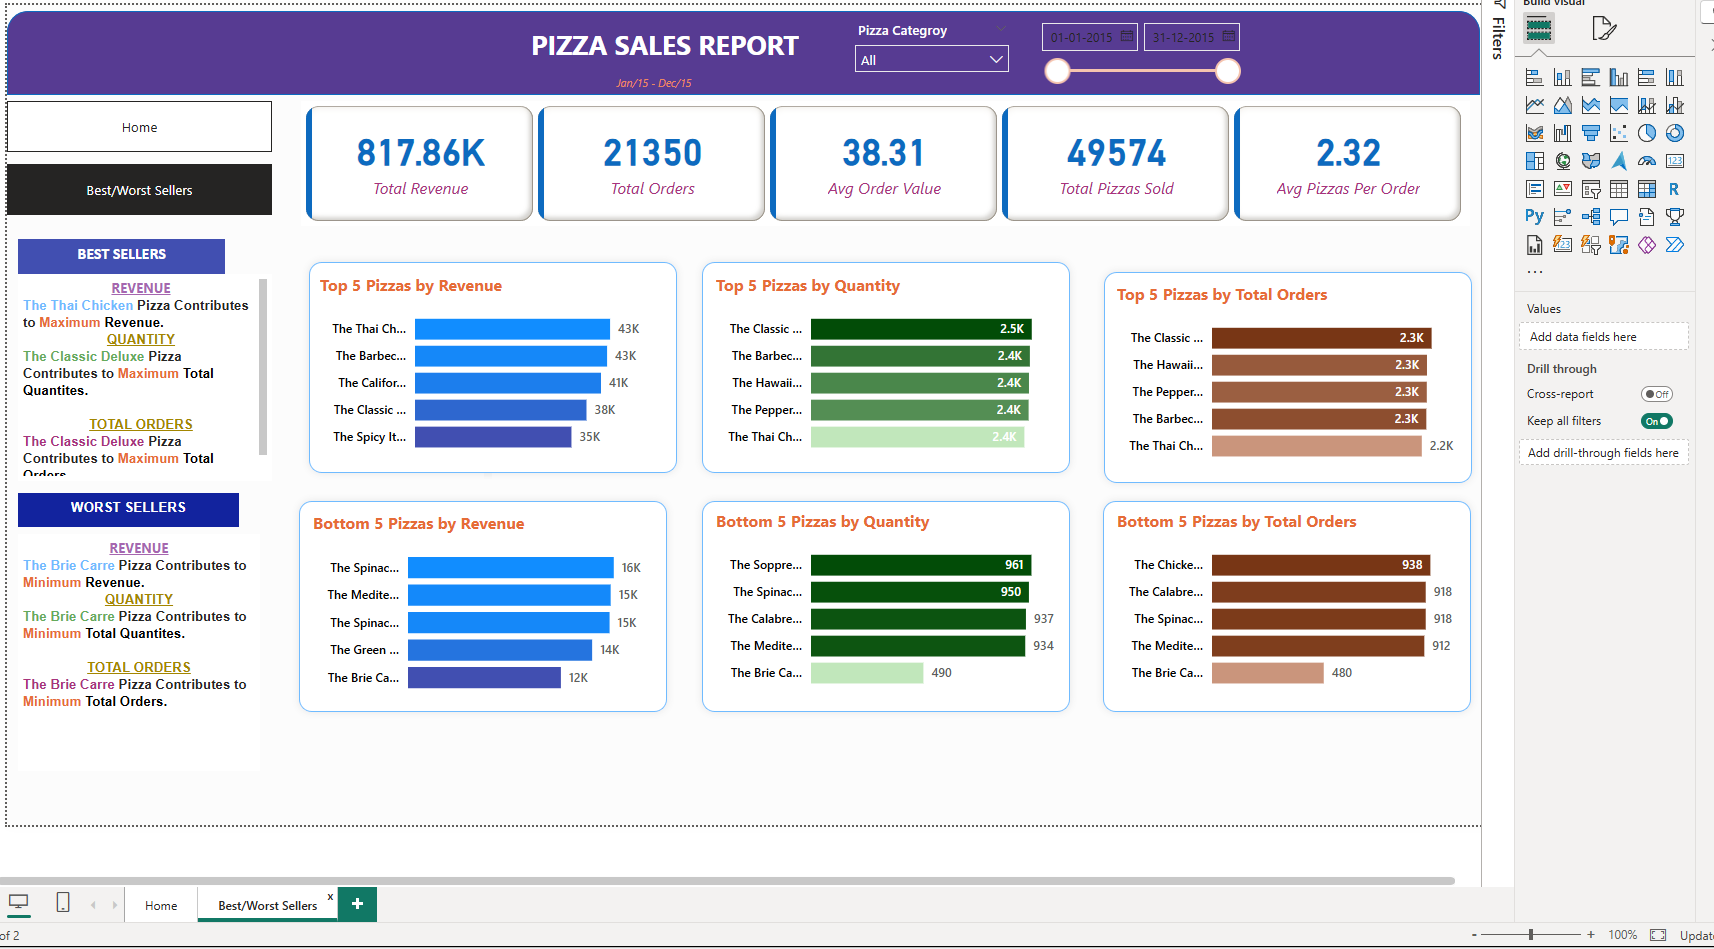

The dashboard page shown, as its layout file describes it:
{"tool":"powerbi","page":{"name":"Best/Worst Sellers","canvas":[1500,820],"ordinal":1},"visuals":[{"type":"cardVisual","fields":{"Data":["pizza_sales.Total Revenue","pizza_sales.Total Orders","pizza_sales.Avg Order Value","pizza_sales.Total Pizzas Sold","pizza_sales.Avg Pizzas Per Order"]},"box":[294,96,1169,125],"z":0},{"type":"shape","box":[0,6,1473,84],"z":1000},{"type":"textbox","box":[497,16,322,49],"z":2000},{"type":"textbox","box":[576,63,142,27],"z":3000},{"type":"shape","box":[294,249,384,227],"z":4000},{"type":"textbox","box":[11,234,207,35],"z":5000},{"type":"textbox","box":[11,269,254,207],"z":6000},{"type":"textbox","box":[11,488,221,34],"z":7000},{"type":"textbox","box":[11,529,242,237],"z":8000},{"type":"slicer","fields":{"Values":["pizza_sales.pizza_category"]},"box":[838,11,174,66],"z":9000},{"type":"slicer","fields":{"Values":["pizza_sales.order_date"]},"box":[1022,8,220,82],"z":10000},{"type":"shape","box":[284,488,384,227],"z":11000},{"type":"shape","box":[687,488,384,227],"z":12000},{"type":"shape","box":[1088,488,384,227],"z":13000},{"type":"shape","box":[687,249,384,227],"z":14000},{"type":"shape","box":[1089,259,384,227],"z":15000},{"type":"barChart","title":"Top 5 Pizzas by Revenue ","fields":{"Category":["pizza_sales.pizza_name"],"Y":["pizza_sales.Total Revenue"]},"box":[308,269,350,190],"z":16000},{"type":"barChart","title":"Bottom 5 Pizzas by Revenue ","fields":{"Category":["pizza_sales.pizza_name"],"Y":["pizza_sales.Total Revenue"]},"box":[301,507,350,193],"z":17000},{"type":"barChart","title":"Top 5 Pizzas by Quantity","fields":{"Category":["pizza_sales.pizza_name"],"Y":["pizza_sales.Total Pizzas Sold"]},"box":[704,269,350,190],"z":17001},{"type":"barChart","title":"Bottom 5 Pizzas by Quantity","fields":{"Category":["pizza_sales.pizza_name"],"Y":["pizza_sales.Total Pizzas Sold"]},"box":[704,505,350,190],"z":17002},{"type":"barChart","title":"Top 5 Pizzas by Total Orders","fields":{"Category":["pizza_sales.pizza_name"],"Y":["pizza_sales.Total Orders"]},"box":[1105,278,350,190],"z":17003},{"type":"barChart","title":"Bottom 5 Pizzas by Total Orders","fields":{"Category":["pizza_sales.pizza_name"],"Y":["pizza_sales.Total Orders"]},"box":[1105,505,350,190],"z":17004},{"type":"pageNavigator","box":[0,96,265,51],"z":17005},{"type":"pageNavigator","box":[0,159,265,51],"z":17006}]}

Visuals, with their boxes on the page's 1500x820 design canvas (x1, y1, x2, y2). These are canvas units, not pixel positions in the 1714x949 screenshot, which may show the page scaled, cropped or inside an application window:
cardVisual - pizza_sales.Total Revenue x pizza_sales.Total Orders: pyautogui.locateOnScreen(294, 96, 1463, 221)
shape: pyautogui.locateOnScreen(0, 6, 1473, 90)
textbox: pyautogui.locateOnScreen(497, 16, 819, 65)
textbox: pyautogui.locateOnScreen(576, 63, 718, 90)
shape: pyautogui.locateOnScreen(294, 249, 678, 476)
textbox: pyautogui.locateOnScreen(11, 234, 218, 269)
textbox: pyautogui.locateOnScreen(11, 269, 265, 476)
textbox: pyautogui.locateOnScreen(11, 488, 232, 522)
textbox: pyautogui.locateOnScreen(11, 529, 253, 766)
slicer - pizza_sales.pizza_category: pyautogui.locateOnScreen(838, 11, 1012, 77)
slicer - pizza_sales.order_date: pyautogui.locateOnScreen(1022, 8, 1242, 90)
shape: pyautogui.locateOnScreen(284, 488, 668, 715)
shape: pyautogui.locateOnScreen(687, 488, 1071, 715)
shape: pyautogui.locateOnScreen(1088, 488, 1472, 715)
shape: pyautogui.locateOnScreen(687, 249, 1071, 476)
shape: pyautogui.locateOnScreen(1089, 259, 1473, 486)
"Top 5 Pizzas by Revenue " barChart: pyautogui.locateOnScreen(308, 269, 658, 459)
"Bottom 5 Pizzas by Revenue " barChart: pyautogui.locateOnScreen(301, 507, 651, 700)
"Top 5 Pizzas by Quantity" barChart: pyautogui.locateOnScreen(704, 269, 1054, 459)
"Bottom 5 Pizzas by Quantity" barChart: pyautogui.locateOnScreen(704, 505, 1054, 695)
"Top 5 Pizzas by Total Orders" barChart: pyautogui.locateOnScreen(1105, 278, 1455, 468)
"Bottom 5 Pizzas by Total Orders" barChart: pyautogui.locateOnScreen(1105, 505, 1455, 695)
pageNavigator: pyautogui.locateOnScreen(0, 96, 265, 147)
pageNavigator: pyautogui.locateOnScreen(0, 159, 265, 210)
